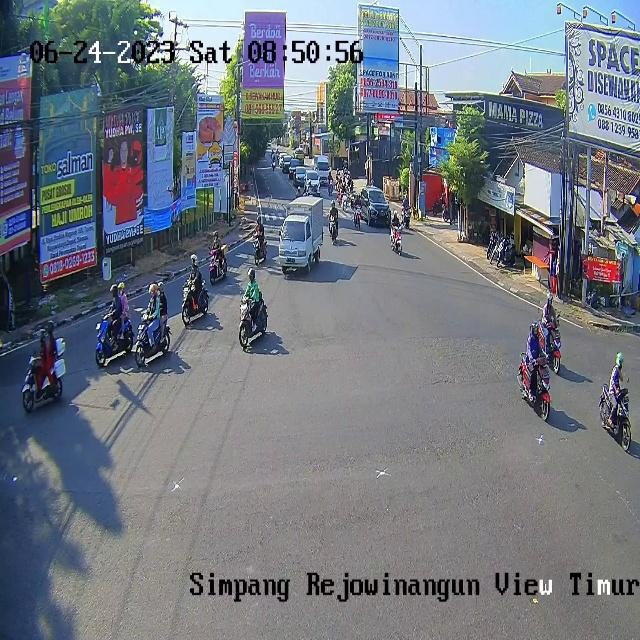bus: (22, 356, 63, 414), (518, 352, 551, 420), (599, 384, 631, 452), (95, 316, 134, 368), (135, 313, 170, 366), (239, 295, 268, 347), (536, 320, 562, 373), (181, 280, 209, 324), (209, 248, 227, 284), (251, 232, 267, 266), (390, 225, 403, 254), (328, 214, 338, 243), (353, 203, 361, 227), (402, 207, 411, 226), (341, 192, 348, 211)
motorcycle: (361, 186, 392, 226), (304, 170, 320, 192), (293, 166, 307, 184), (289, 158, 300, 178), (281, 155, 292, 174)
truck: (279, 196, 323, 274), (313, 154, 331, 185)
